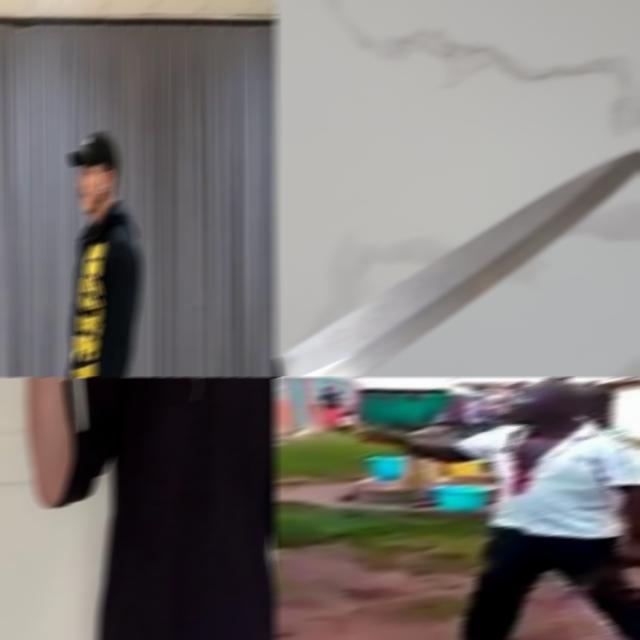Knife: (274, 148, 640, 377), (576, 560, 625, 593)
Knife_Handle: (572, 541, 640, 595)
